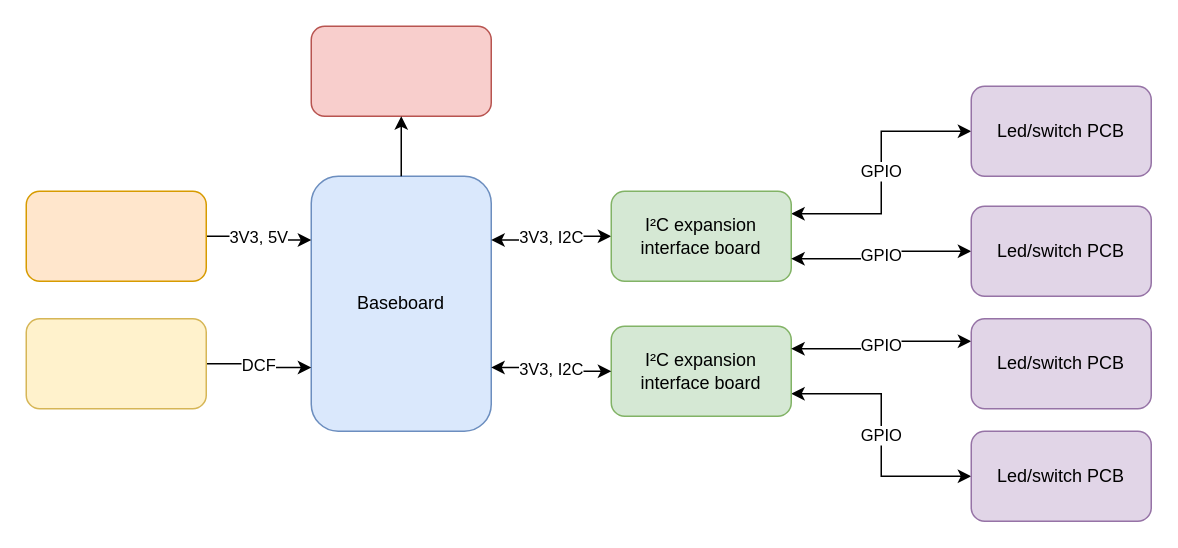
The diagram is 1178 pixels wide and 548 high, and some of its shapes have lost their labels. The centre of each missing label's shape, as x and y in pixels:
LED-driver PCB: [400,70]
Power supply board: [115,235]
TimeSync-board: [115,363]
